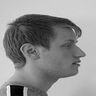ear: (16, 38, 46, 65)
